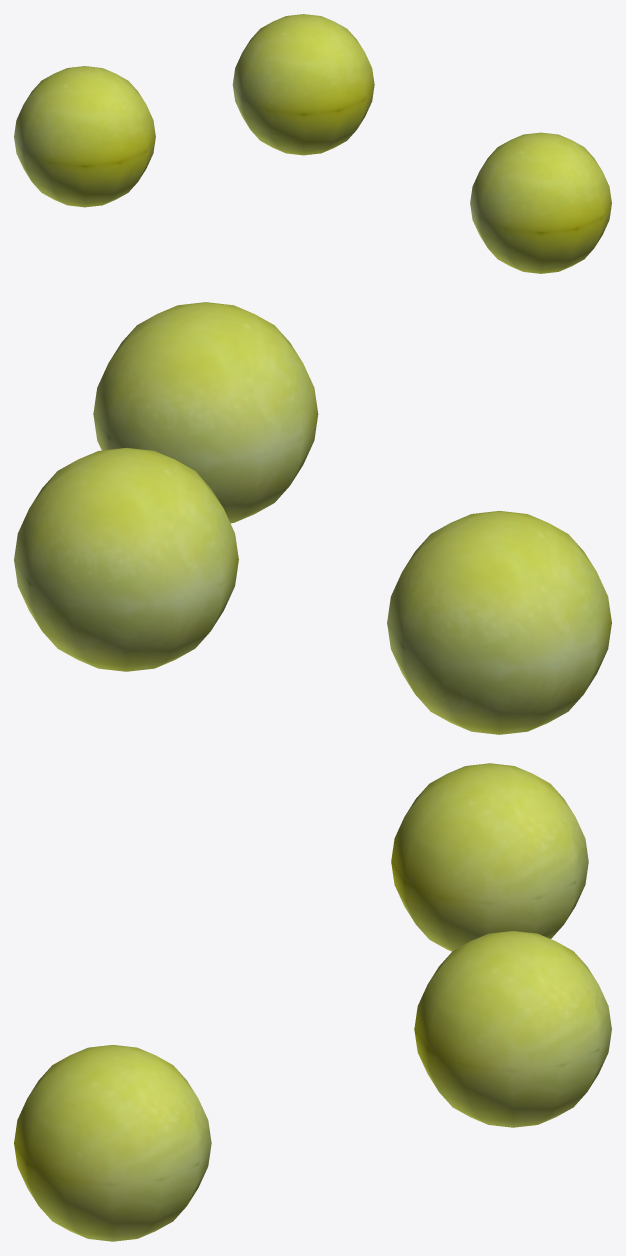
The picture shows the model from 3 angles, top to bottom: view 1: azimuth 30°, elevation 25°; view 2: azimuth 150°, elevation 25°; view 3: azimuth 270°, elevation 25°; orthographic projection. The views are drawn at different scales.
Parts seen in each view (by area): view 1: Al02, Al01, Al03; view 2: Al02, Al01, Al03; view 3: Al02, Al03, Al01.
Boxes of the visible parts, x1,y1,x2,y2 form: Al02: (232,14,374,155); Al01: (14,66,155,207); Al03: (470,132,611,273); Al02: (14,447,238,671); Al01: (387,511,611,734); Al03: (93,302,318,523); Al02: (414,931,611,1127); Al03: (14,1045,211,1241); Al01: (391,763,588,951).
Size of the model in its own units: 21.37 by 8.02 by 17.91.
Materials: 1 (1 with a texture image).
